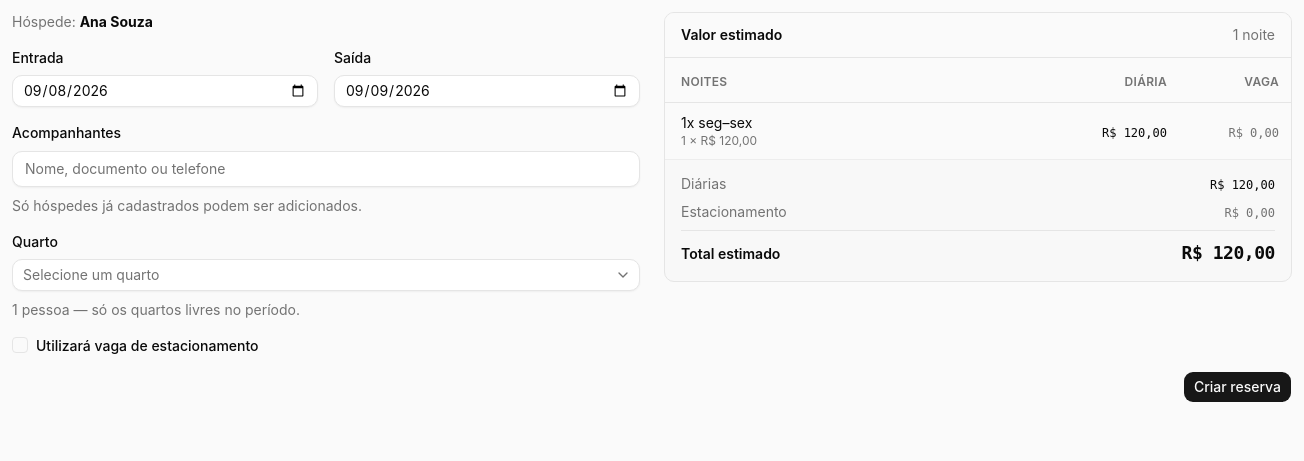
Test: ReservationForm · escolha do quarto › conta o acompanhante no numero de pessoas e atualiza a consulta de disponibilidade
Expected: the dropdown labelled "quarto" is enabled, [12,259,640,291]
In the dropdown labelled "Acompanhantes": (326, 168) [12,150,640,186], type "eva"
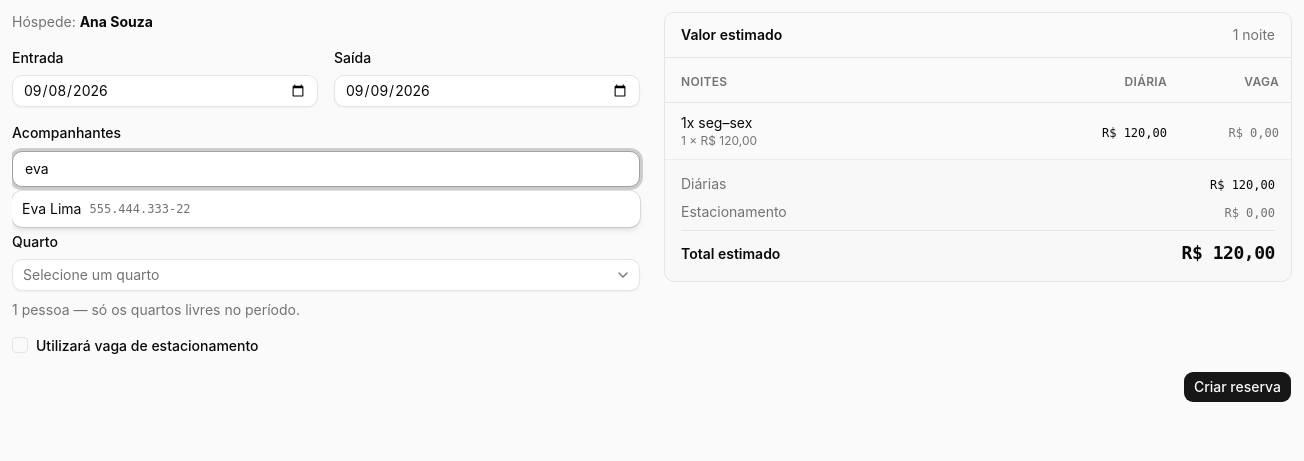
Click the option "Eva Lima 555.444.333-22": (106, 208) [22,200,191,216]
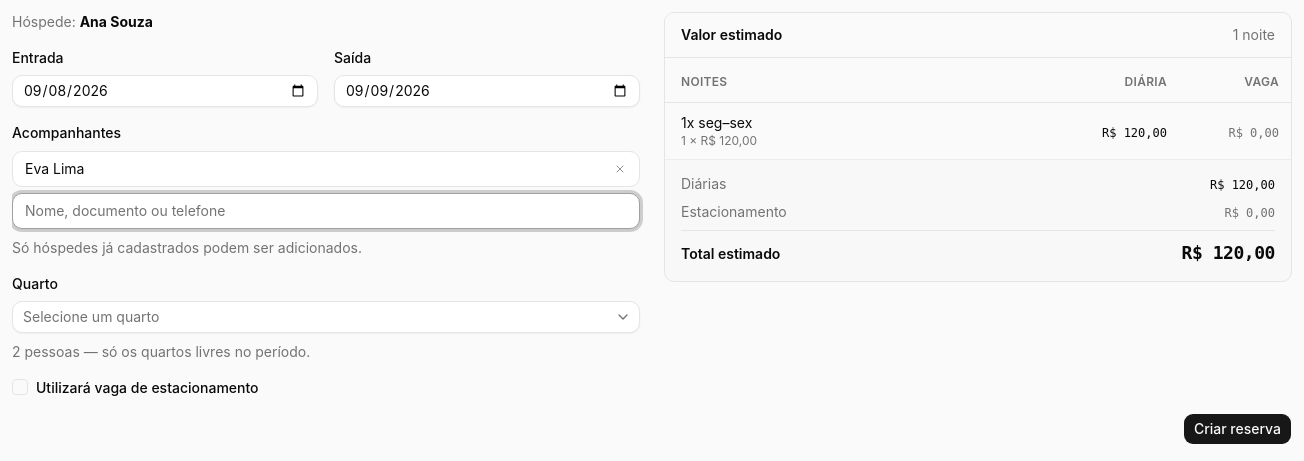
Result: the button named "Remover Eva Lima" is shown at [607,156,633,182]
